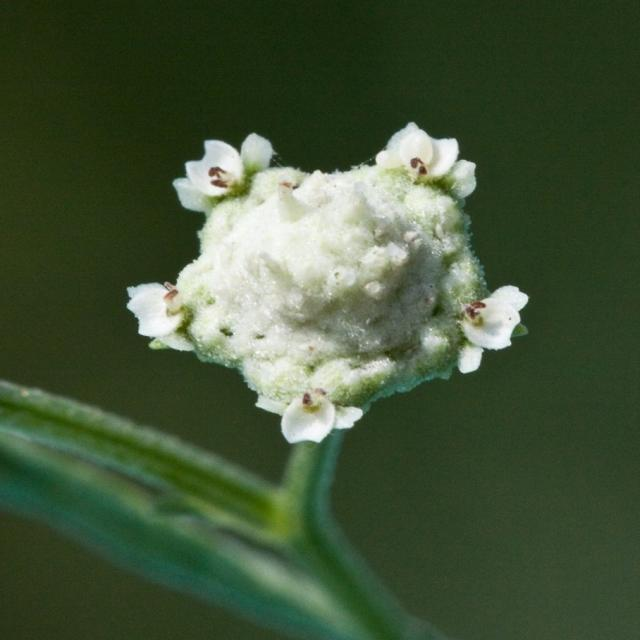Poisonous-Parthenium: (112, 121, 542, 444)
